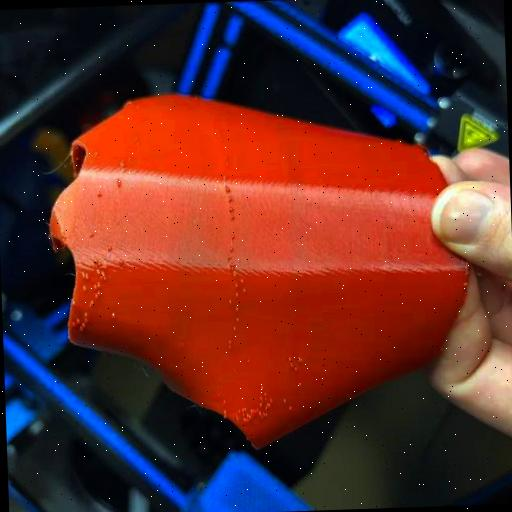blobs: (225, 336, 234, 352), (80, 268, 90, 282), (98, 272, 108, 284), (76, 322, 90, 330), (116, 158, 126, 169), (106, 309, 116, 320), (79, 280, 89, 291), (232, 301, 242, 311), (248, 405, 258, 415), (114, 176, 122, 188), (104, 240, 112, 252), (87, 298, 95, 310), (92, 281, 102, 290), (94, 188, 102, 198), (94, 266, 102, 276), (94, 290, 102, 300), (240, 284, 248, 294), (224, 184, 232, 194), (296, 354, 304, 364), (238, 404, 246, 413), (234, 312, 241, 322), (220, 406, 227, 416), (90, 256, 98, 264), (284, 354, 292, 362), (286, 404, 294, 412), (296, 380, 303, 389), (234, 278, 240, 288), (230, 232, 236, 242), (230, 364, 236, 374), (74, 316, 82, 323), (227, 297, 234, 305), (228, 206, 235, 214), (216, 391, 223, 399), (234, 413, 241, 421), (258, 410, 266, 417), (244, 357, 251, 364), (88, 230, 94, 238), (234, 290, 240, 298), (238, 276, 246, 282), (228, 244, 234, 252), (282, 396, 288, 404), (226, 195, 232, 202), (288, 362, 295, 368), (258, 384, 265, 390), (82, 310, 90, 315), (231, 324, 236, 332), (84, 316, 90, 322), (229, 214, 235, 220), (226, 254, 231, 261), (268, 397, 273, 404), (214, 378, 222, 382), (258, 400, 262, 408), (222, 400, 227, 404), (258, 395, 262, 399)
